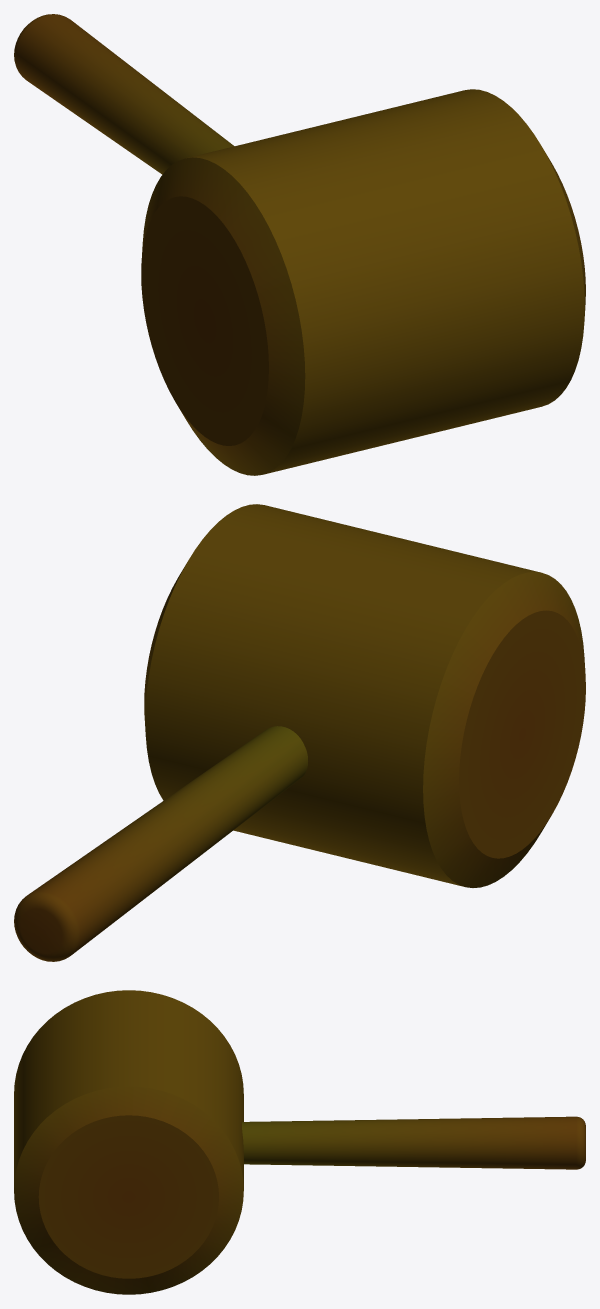
The picture shows the model from 3 angles, top to bottom: view 1: azimuth 30°, elevation 25°; view 2: azimuth 150°, elevation 25°; view 3: azimuth 270°, elevation 25°; orthographic projection. The views are drawn at different scales.
Parts seen in each view (by area): view 1: head, handle; view 2: head, handle; view 3: head, handle.
Boxes of the visible parts, left/top/right/bottom form: head: left=141, top=89, right=585, bottom=475; handle: left=14, top=14, right=234, bottom=174; head: left=144, top=504, right=585, bottom=887; handle: left=14, top=726, right=307, bottom=961; head: left=14, top=990, right=243, bottom=1294; handle: left=242, top=1116, right=585, bottom=1169.
Size of the model in its own units: 0.1356 by 0.1207 by 0.3004.
